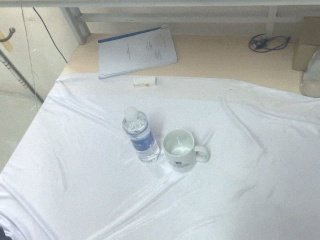bottle: (122, 107, 161, 163), (299, 47, 320, 98)
cup: (162, 129, 210, 174)
toy_car: (1, 26, 16, 43)
